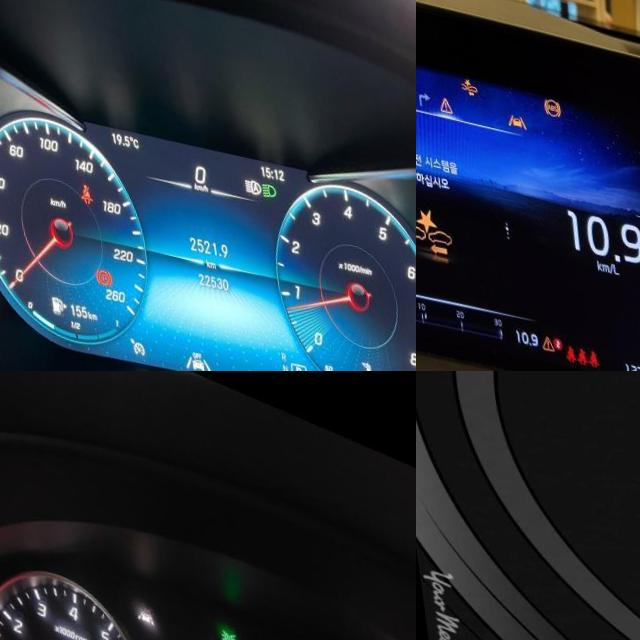Central Warning lamp: (429, 78, 443, 98)
LaneCenteringOff: (170, 339, 198, 358), (126, 591, 147, 612), (497, 93, 519, 111)
Low beam: (252, 161, 269, 180)
SideLamp: (211, 608, 229, 627)
